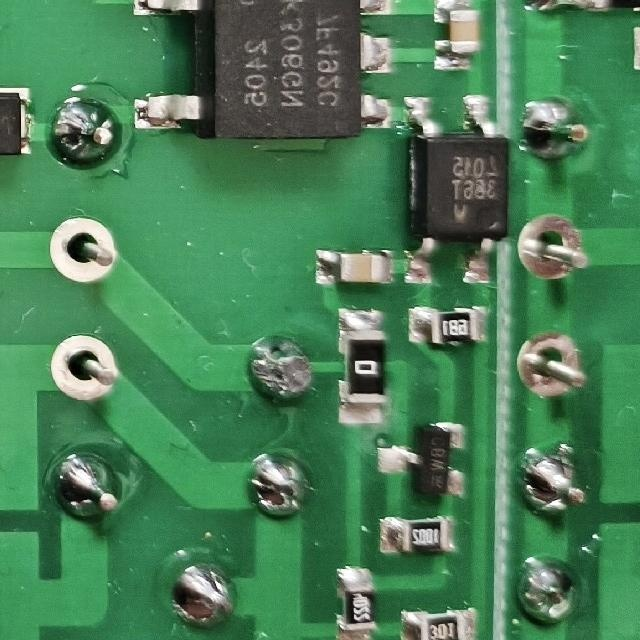chip-capacitor: (431, 0, 481, 75), (311, 245, 397, 287)
chip-resistor: (333, 304, 387, 425), (404, 302, 491, 347), (376, 514, 459, 557), (333, 563, 376, 640), (398, 604, 478, 640)
ic: (126, 0, 394, 145), (398, 92, 510, 288)
transistor: (375, 416, 470, 500)
